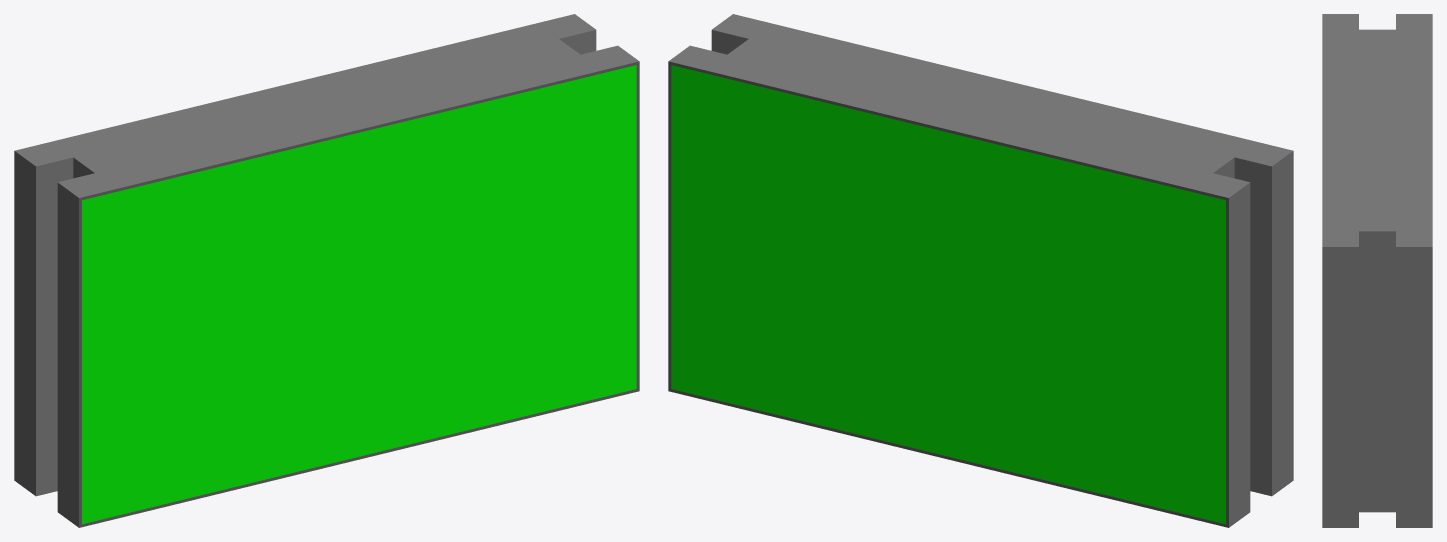
Rendered from Module_BSAd2.dae.
3 views of the same model, side by side, from view 1: azimuth 30°, elevation 25°; view 2: azimuth 150°, elevation 25°; view 3: azimuth 270°, elevation 25° (orthographic). The views are drawn at different scales.
Parts seen in each view (by area): view 1: SketchUp (×3); view 2: SketchUp (×3); view 3: SketchUp.
Boxes of the visible parts, x1,y1,x2,y2 form: SketchUp (×3): [14, 14, 639, 527]; SketchUp (×3): [668, 14, 1293, 527]; SketchUp: [1322, 14, 1432, 527].
Bounding box in the file's own units: 39.37 × 7.87 × 22.15.
Materials: 4 (4 with a texture image).
